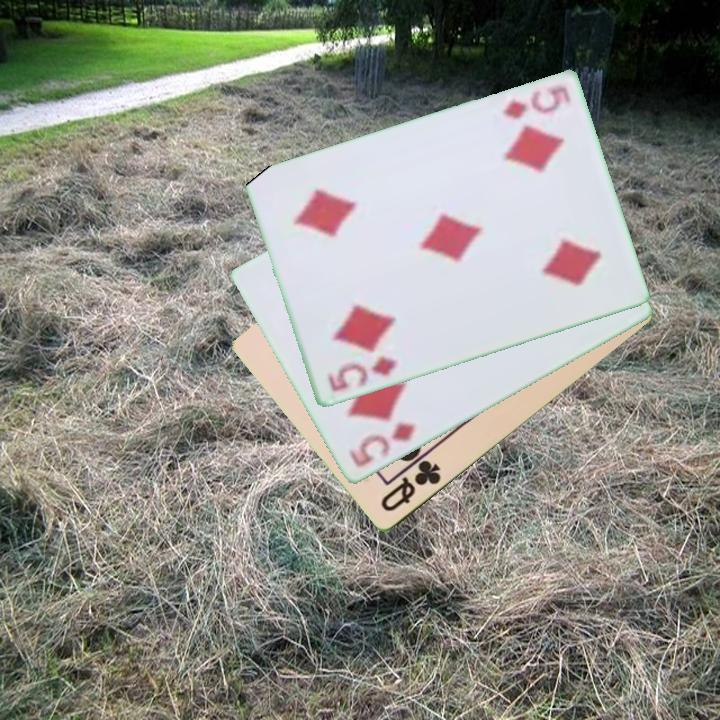5d: (345, 419, 419, 471), (323, 352, 400, 395), (499, 82, 573, 123)
Qc: (377, 456, 444, 516)
